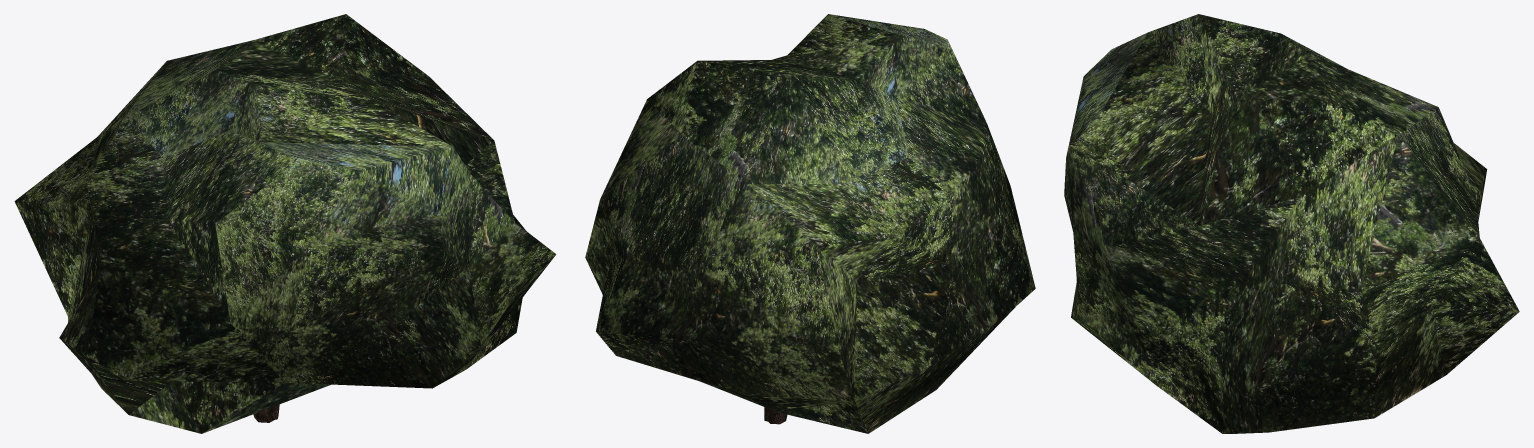
File: treeoak1.fbx
The picture shows the model from 3 angles, left to right: view 1: azimuth 30°, elevation 25°; view 2: azimuth 150°, elevation 25°; view 3: azimuth 270°, elevation 25°; orthographic projection. The views are drawn at different scales.
Parts seen in each view (by area): view 1: treeoak1; view 2: treeoak1; view 3: treeoak1.
Part boxes in pixels (box(x1,y1,x2,y2)): treeoak1: box(14, 14, 556, 433); treeoak1: box(585, 14, 1035, 433); treeoak1: box(1064, 14, 1519, 433).
Bounding box in the file's own units: 1550 × 1359 × 1528.
